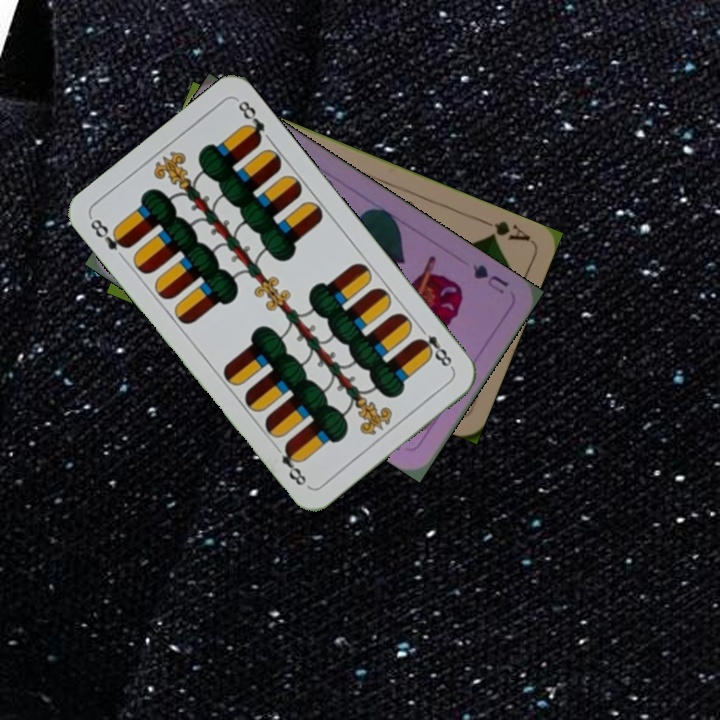E8: (412, 322, 456, 372), (86, 214, 132, 254)
GA: (476, 215, 533, 244)
GU: (468, 260, 511, 297)
